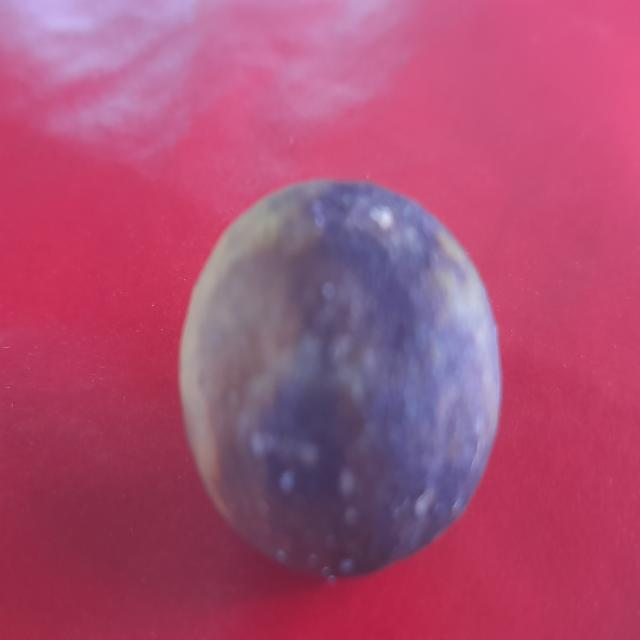black spot: (186, 175, 511, 583)
